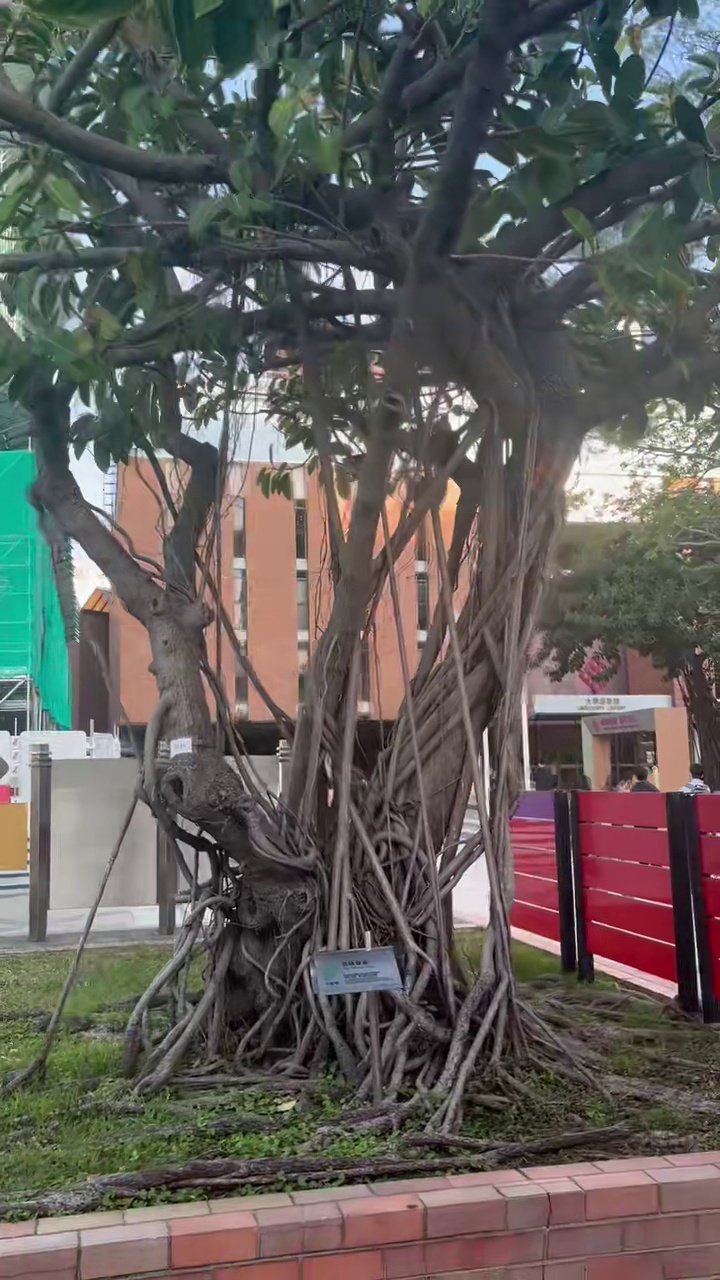Ficus elastica: (0, 0, 719, 1131)
